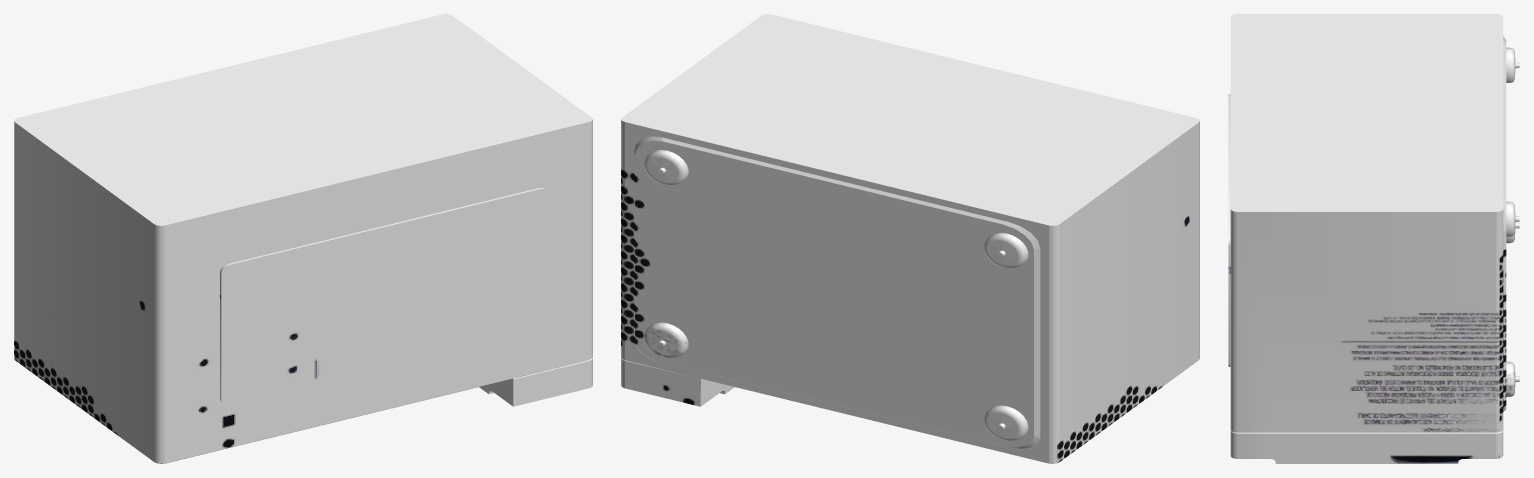
Rendered from microwave_left_group_main_microwave2_0.obj.
The picture shows the model from 3 angles, left to right: view 1: azimuth 30°, elevation 25°; view 2: azimuth 150°, elevation 25°; view 3: azimuth 270°, elevation 25°; orthographic projection. The views are drawn at different scales.
Bounding box in the file's own units: 0.7529 × 0.4469 × 0.4686.
1 material, 1 textured.
